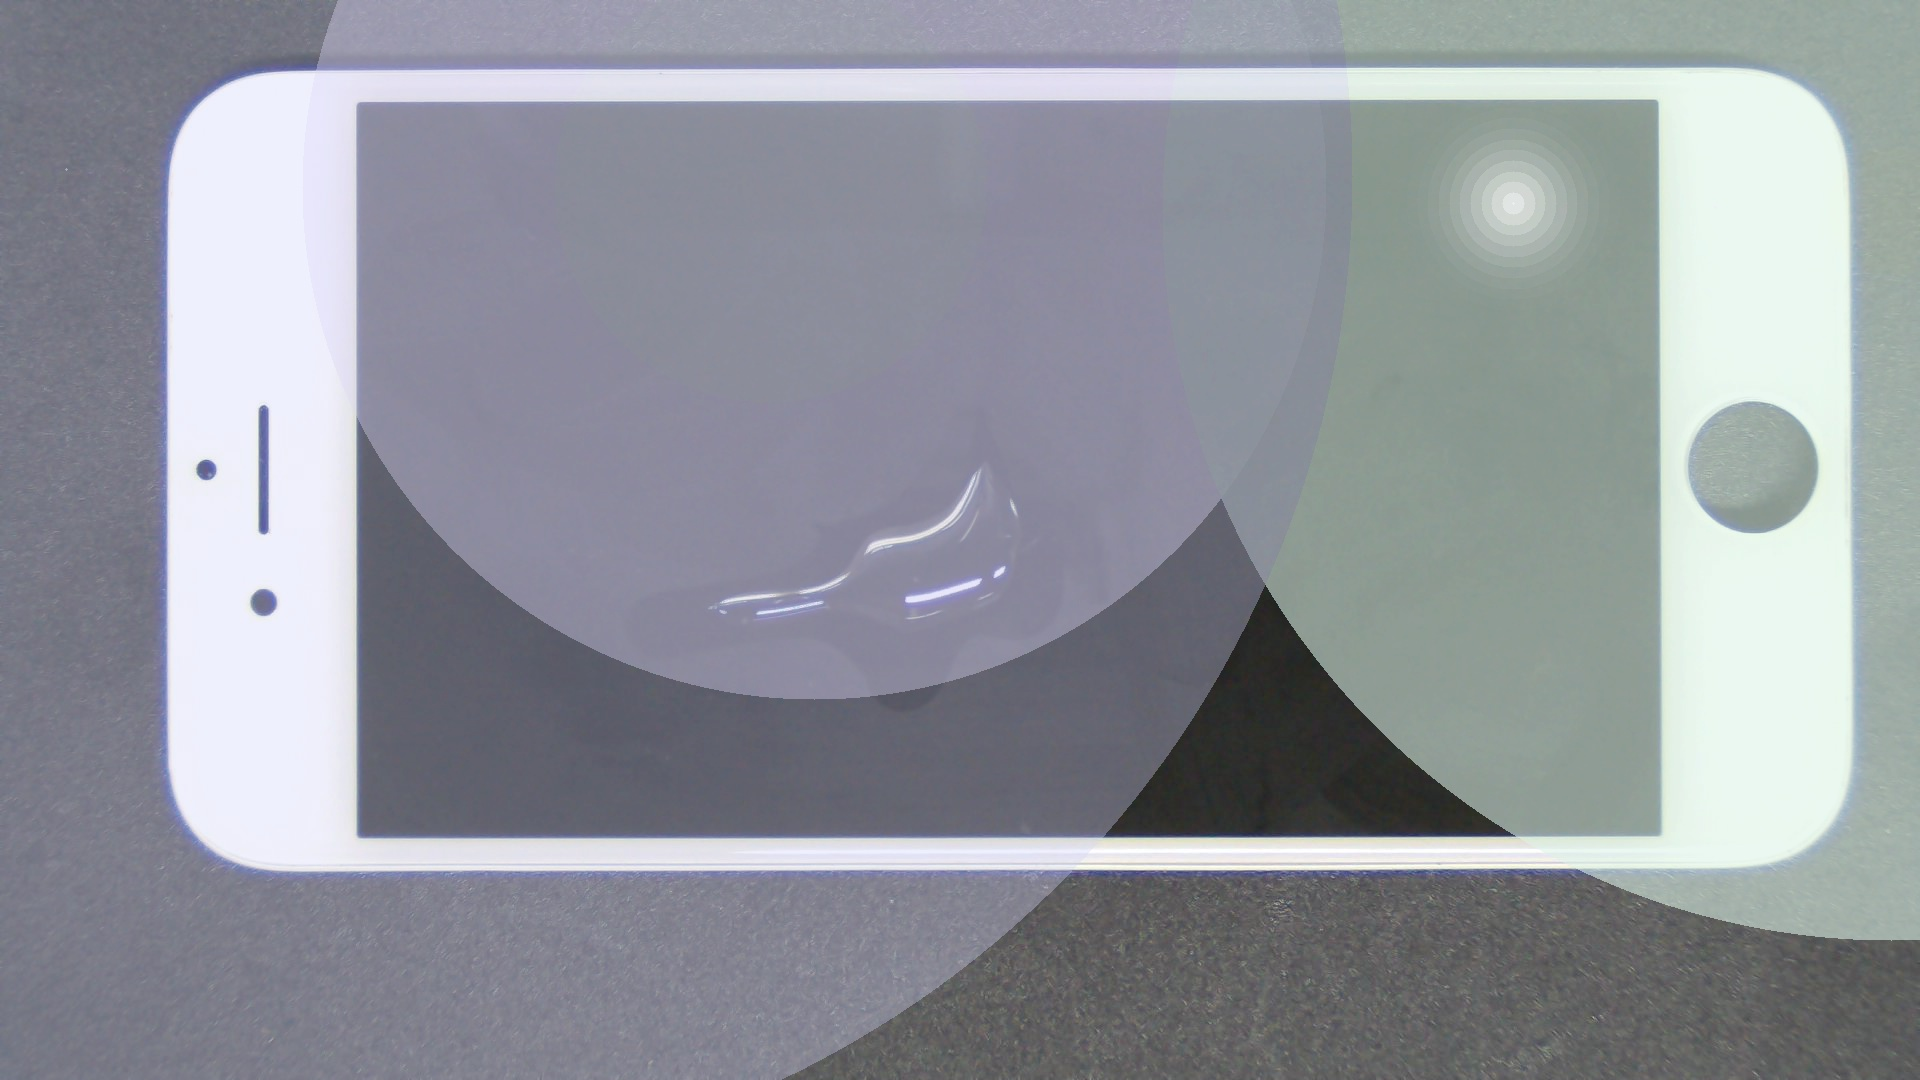oil: (488, 202, 1464, 608)
